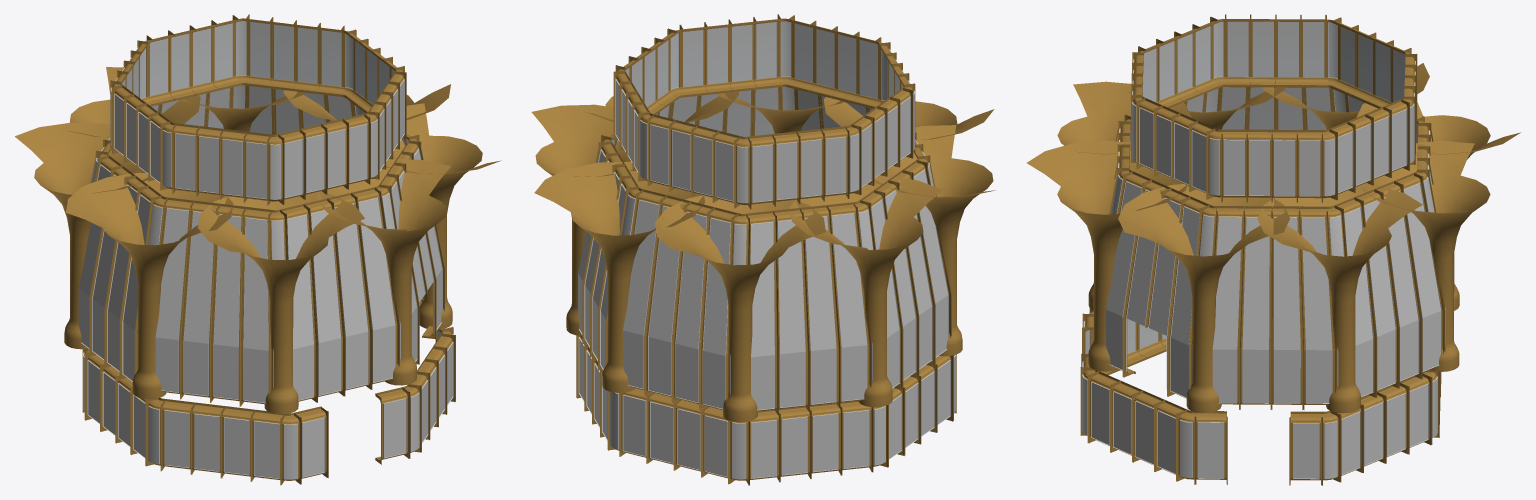
The model's file is TowerInterior.fbx.
The picture shows the model from 3 angles, left to right: view 1: azimuth 30°, elevation 25°; view 2: azimuth 150°, elevation 25°; view 3: azimuth 270°, elevation 25°; orthographic projection. The views are drawn at different scales.
Parts seen in each view (by area): view 1: Cube.009; view 2: Cube.009; view 3: Cube.009.
Boxes of the visible parts, <box> form: Cube.009: <box>15,14,500,485</box>; Cube.009: <box>531,14,995,485</box>; Cube.009: <box>1027,14,1520,485</box>.
Bounding box in the file's own units: 12482 × 9261 × 12482.
